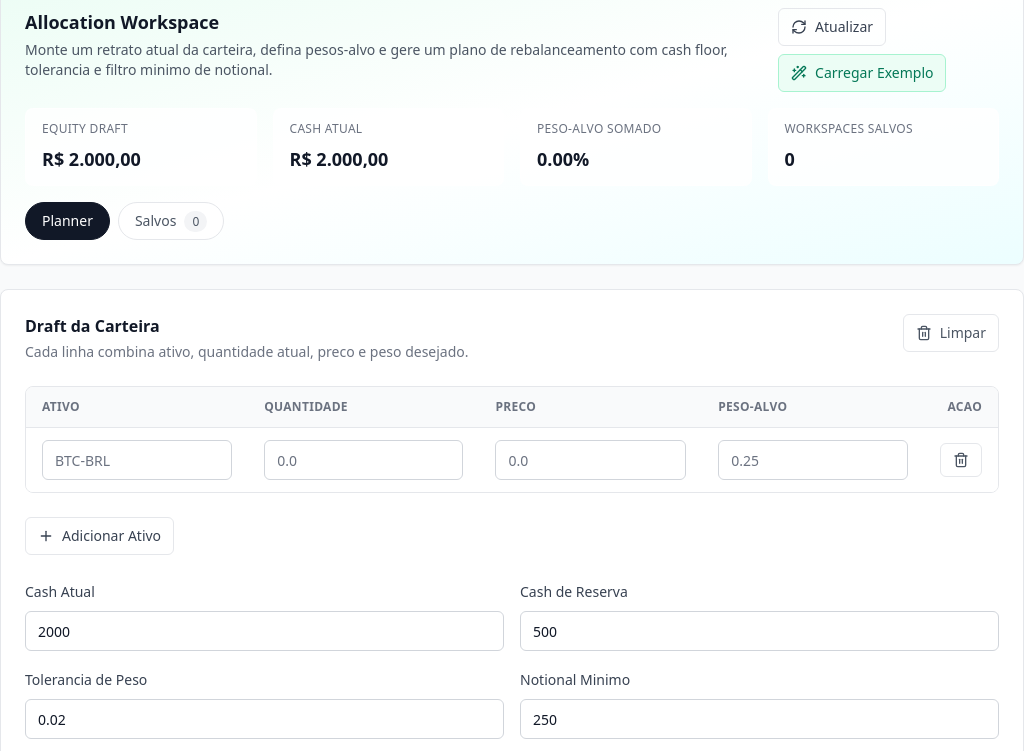
it: AllocationWorkspace › builds and renders a rebalance plan from the example draft
The image size is (1024, 751).
Check: the text "Workspaces Salvos" is shown, box left=784, top=120, right=913, bottom=137
Click the button "Carregar Exemplo". click: (862, 73)
box: left=778, top=54, right=946, bottom=92
(page scrolled)
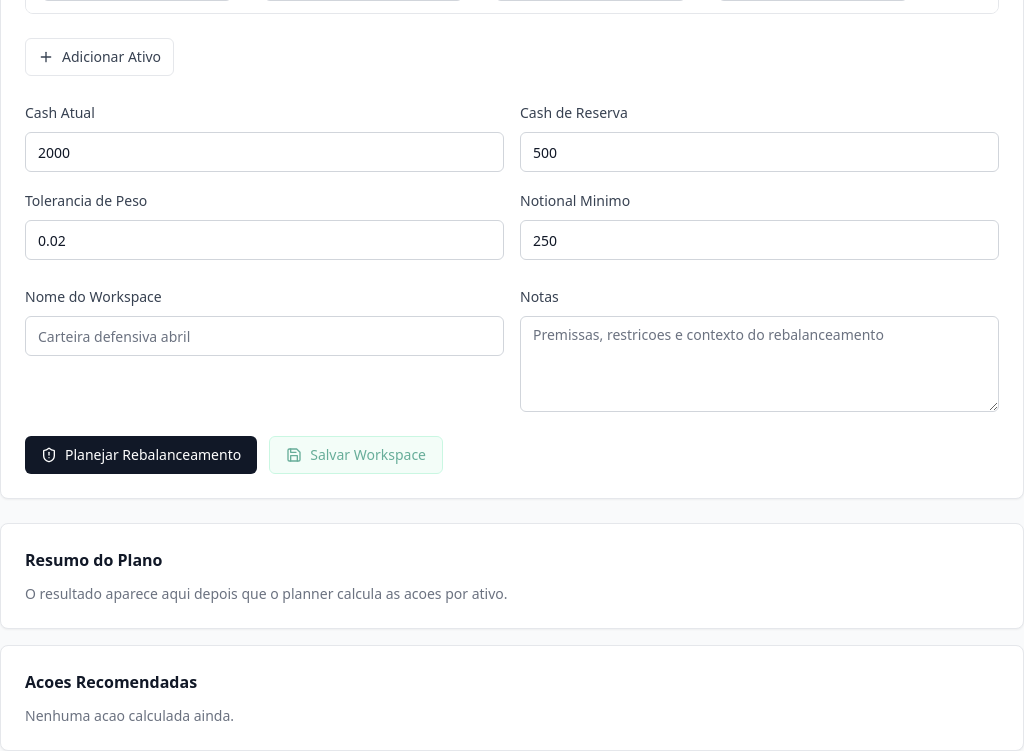
Click the button "Planejar Rebalanceamento". click: (141, 455)
box: left=25, top=436, right=257, bottom=474
(page scrolled)
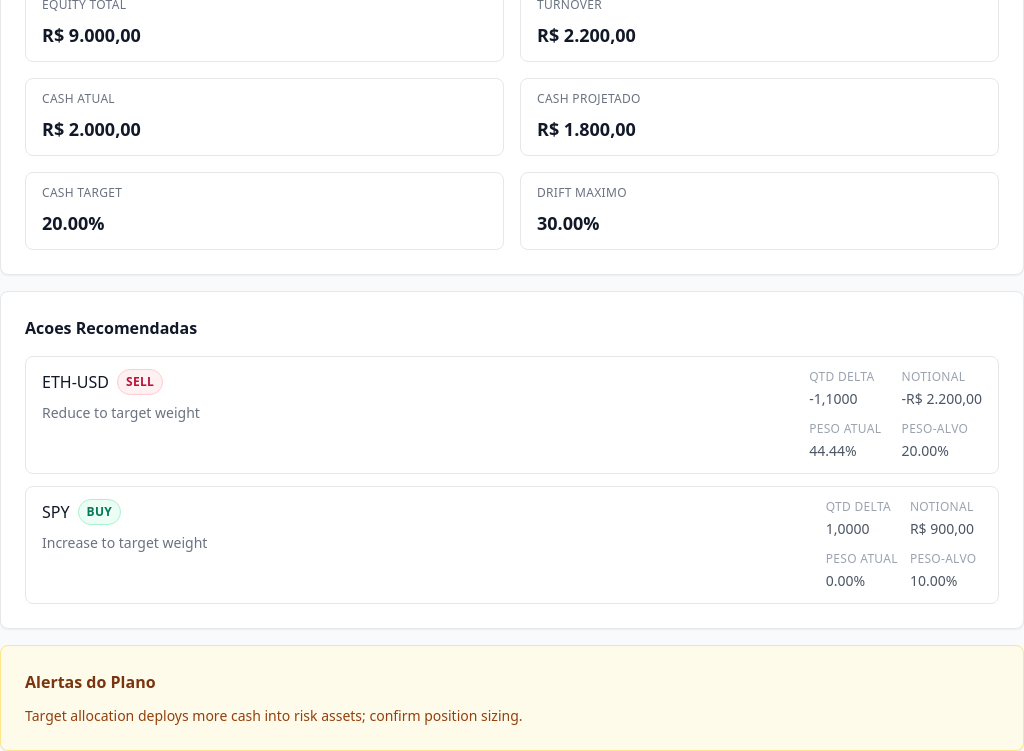
Check: the text "ETH-USD" is shown, box left=42, top=370, right=109, bottom=394
Check: the text "SPY" is shown, box left=42, top=500, right=70, bottom=524
Check: the heading "Alertas do Plano" is shown, box left=25, top=671, right=156, bottom=693
